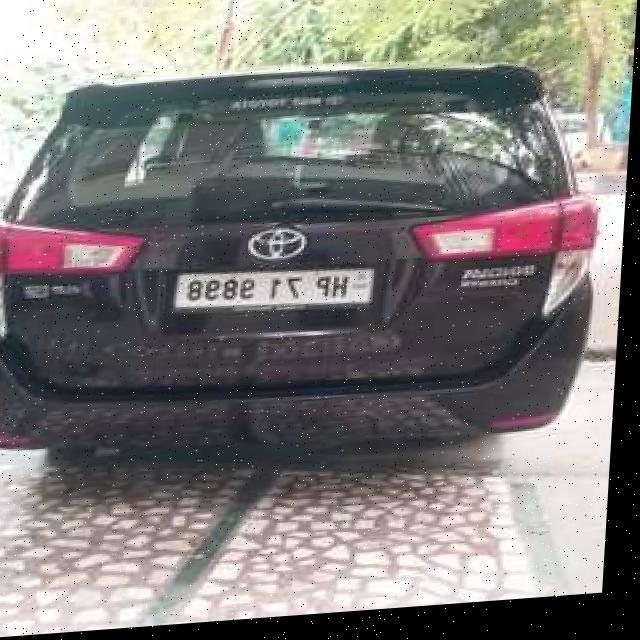plate: (174, 265, 383, 322)
